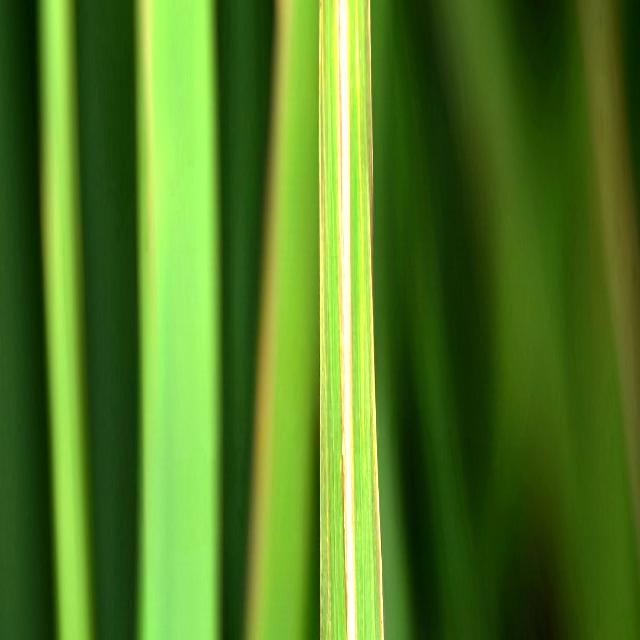BLB: (335, 0, 357, 640)
